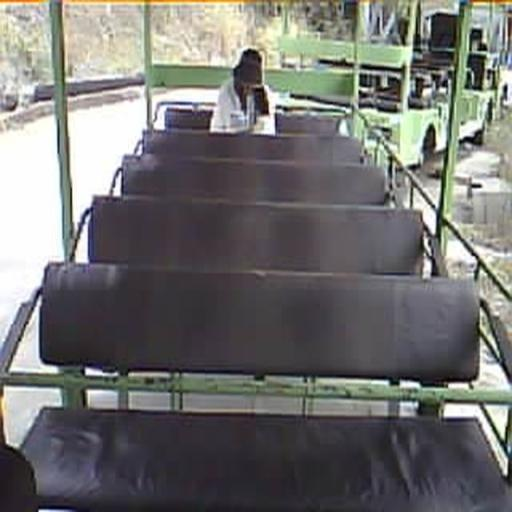persona: (210, 47, 276, 135)
